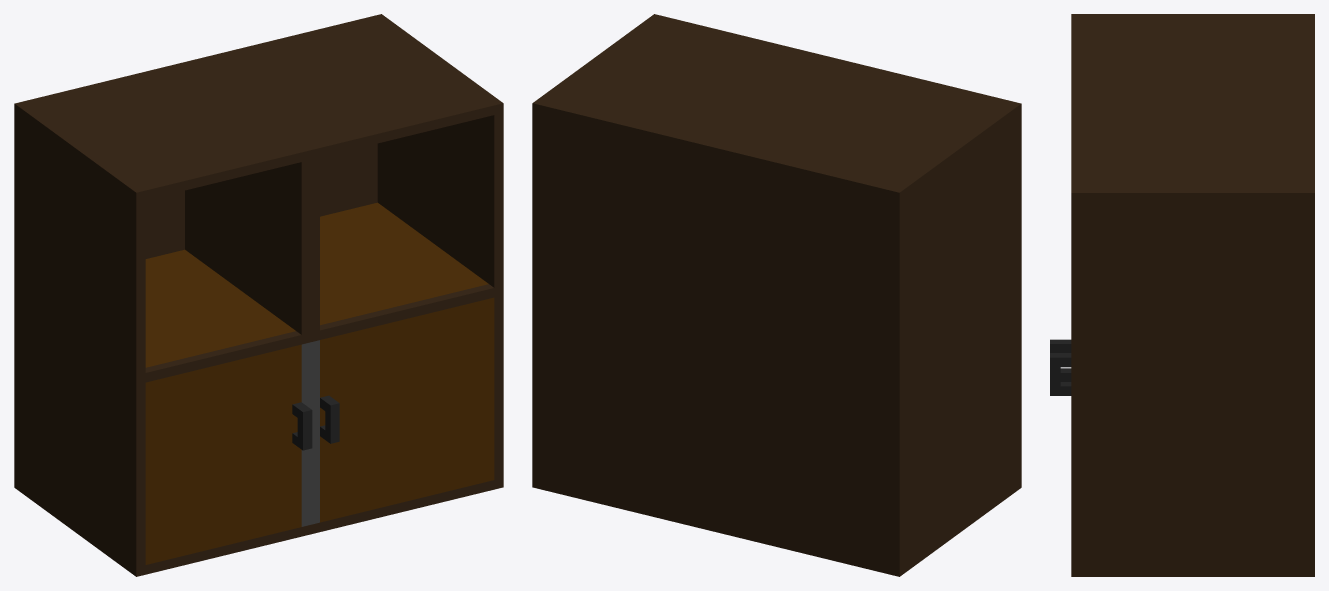
The model's file is Polk.obj.
3 views of the same model, side by side, from view 1: azimuth 30°, elevation 25°; view 2: azimuth 150°, elevation 25°; view 3: azimuth 270°, elevation 25° (orthographic).
Bounding box in the file's own units: 4 × 4 × 2.5.
1 material, 1 textured.
